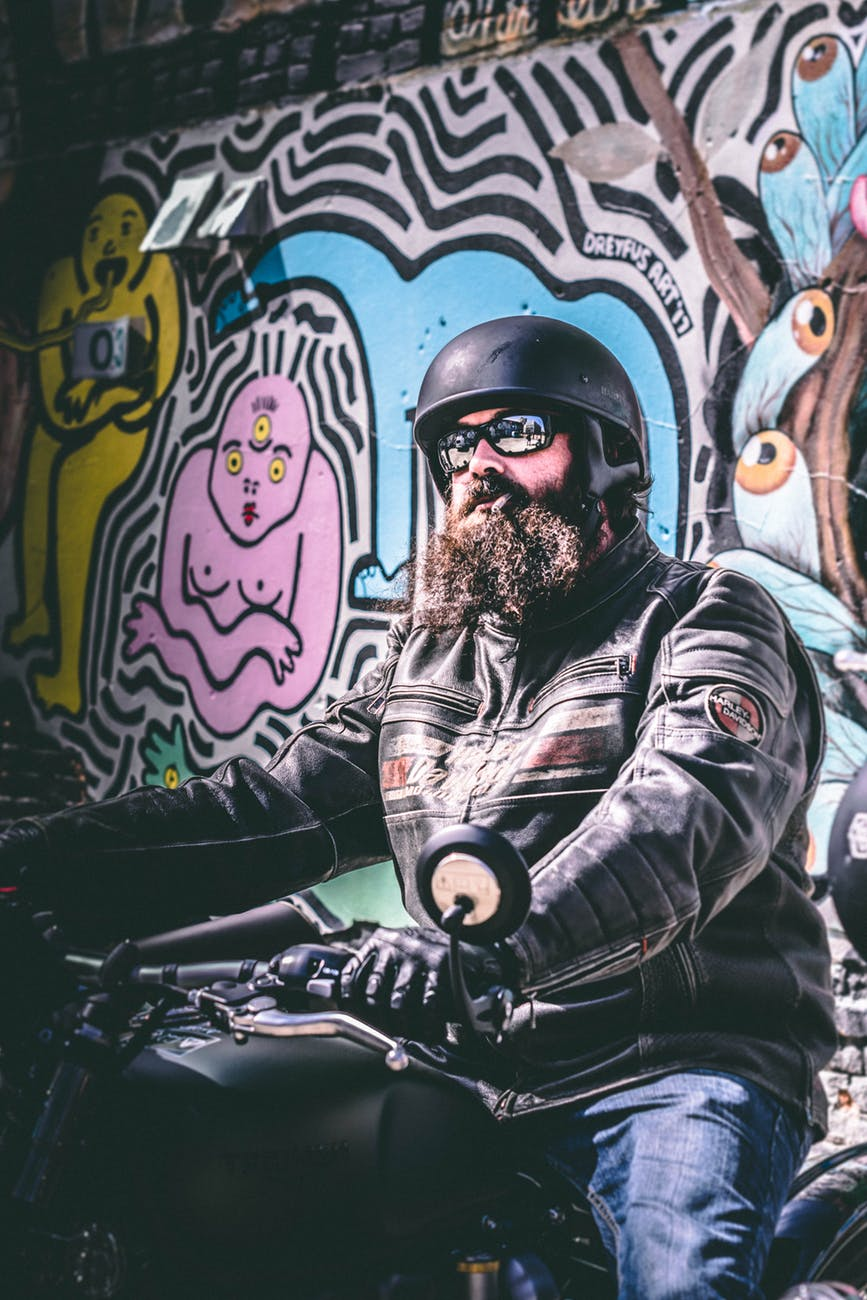helmet: (408, 339, 658, 457)
